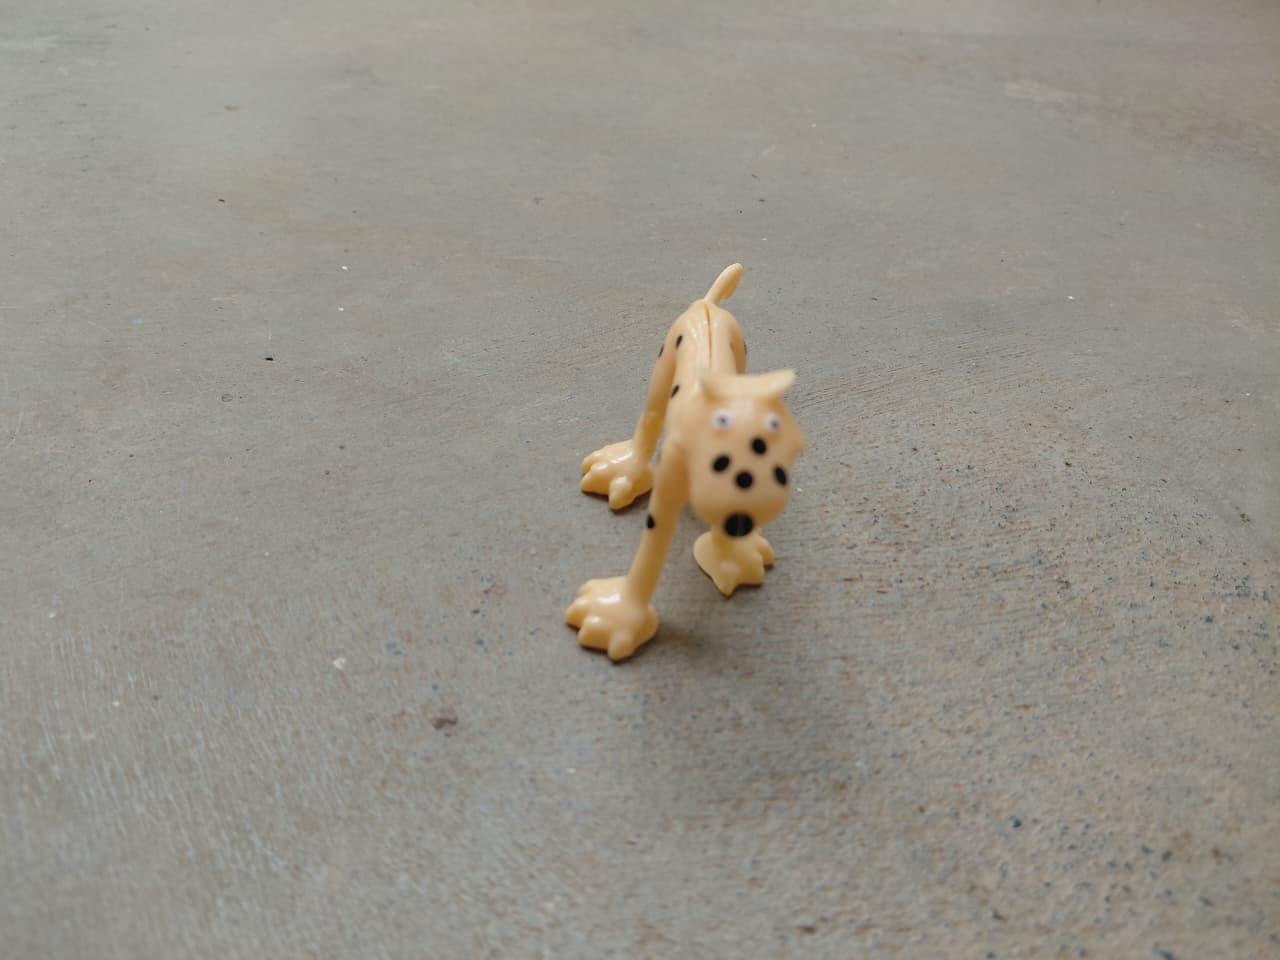cheetah: (560, 262, 814, 665)
